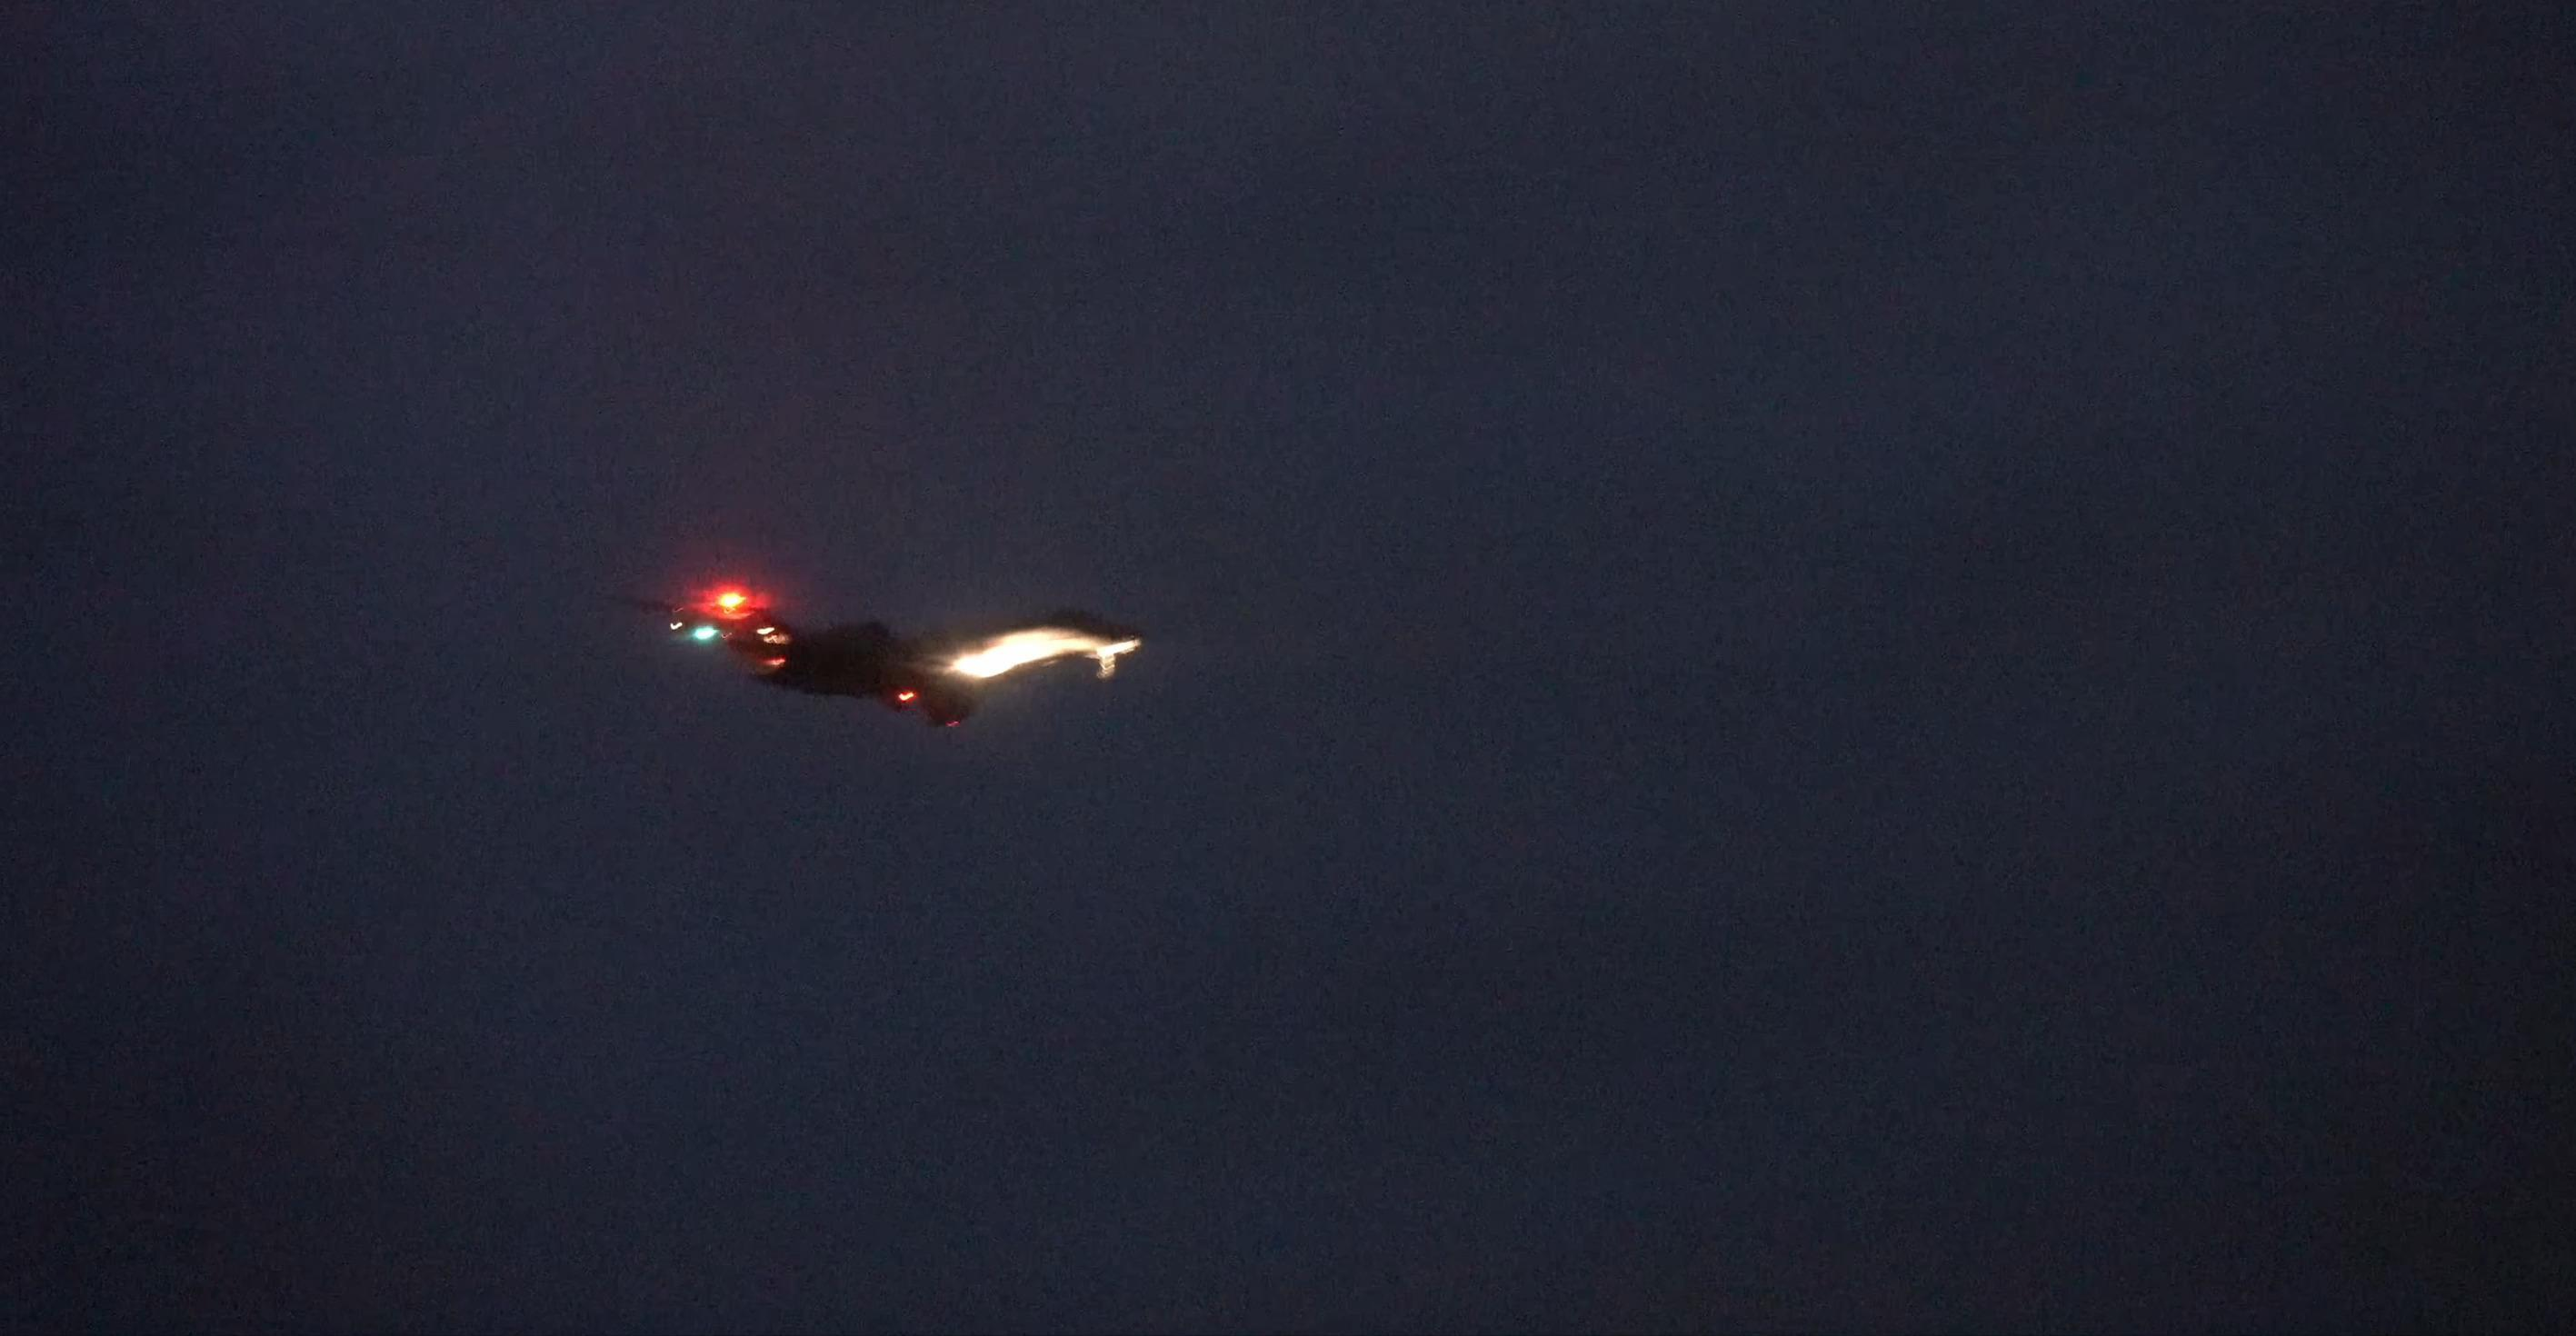Plane: (649, 576, 1170, 709)
